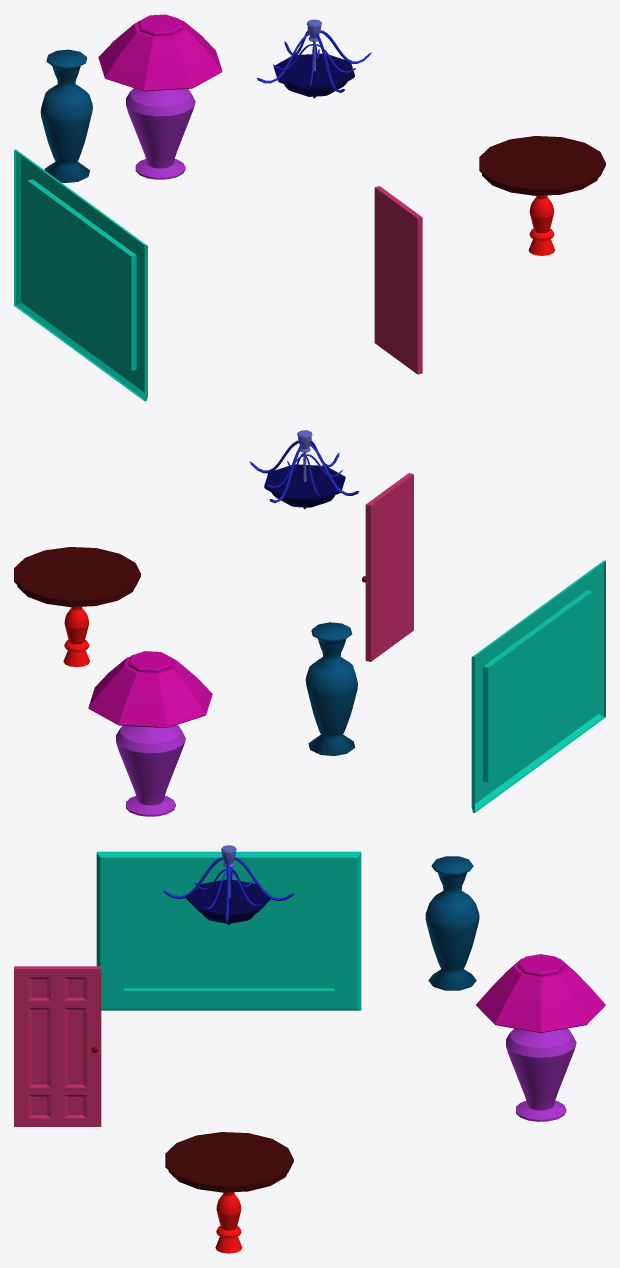
Rendered from DoorTableLampOverheadLightVase.fbx.
3 views of the same model, one above another, from view 1: azimuth 30°, elevation 25°; view 2: azimuth 150°, elevation 25°; view 3: azimuth 270°, elevation 25° (orthographic).
Parts seen in each view (by area): view 1: Painting, Door, Lamp Shade, Table Top, Vase, Lamp, LightBase, Table Bottom; view 2: Painting, Door, Lamp Shade, Table Top, Vase, Lamp, LightBase, Table Bottom; view 3: Painting, Door, Lamp Shade, Table Top, Vase, Lamp, LightBase, Table Bottom, LightRod_001.
Part boxes in pixels (x1,y1,x2,y2): Painting: (14,149,147,401); Door: (374,186,422,374); Lamp Shade: (98,14,222,91); Table Top: (479,136,605,195); Vase: (40,49,92,182); Lamp: (126,88,195,179); LightBase: (273,53,354,98); Table Bottom: (528,195,555,255); Painting: (471,560,605,812); Door: (365,473,413,661); Lamp Shade: (88,651,212,727); Table Top: (14,547,140,607); Vase: (305,622,357,755); Lamp: (116,725,185,816); LightBase: (264,464,345,509); Table Bottom: (63,606,89,667); Painting: (96,851,361,1010); Door: (14,966,101,1126); Lamp Shade: (476,954,605,1032); Table Top: (165,1132,293,1192); Vase: (425,856,479,990); Lamp: (506,1028,576,1121); LightBase: (186,879,270,924); Table Bottom: (215,1192,242,1253); LightRod_001: (163,857,294,900).
Size of the model in its own units: 695 by 363 by 679.
